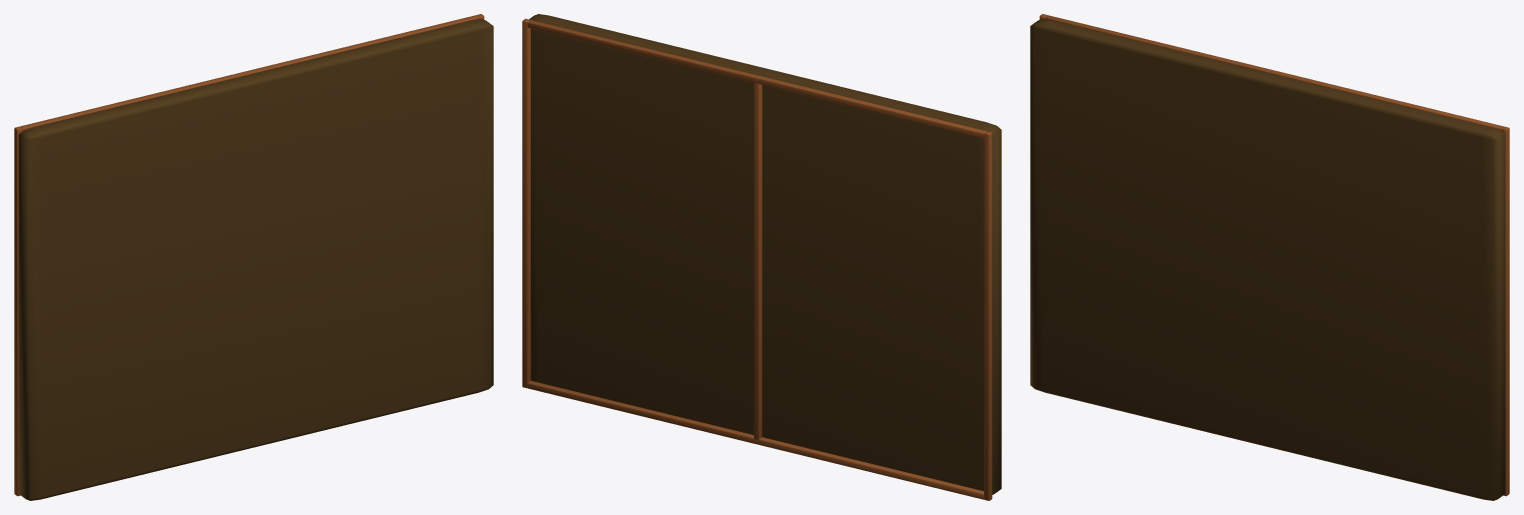
Rendered from SM_Wall3x1.fbx.
The picture shows the model from 3 angles, left to right: view 1: azimuth 30°, elevation 25°; view 2: azimuth 150°, elevation 25°; view 3: azimuth 330°, elevation 25°; orthographic projection.
Visible parts, largest first — view 1: Wall3x1; view 2: Wall3x1; view 3: Wall3x1.
Part boxes in pixels (x1,y1,x2,y2): Wall3x1: [14, 14, 493, 500]; Wall3x1: [522, 14, 1001, 500]; Wall3x1: [1030, 14, 1509, 500].
Bounding box in the file's own units: 19.9 × 400 × 300.
